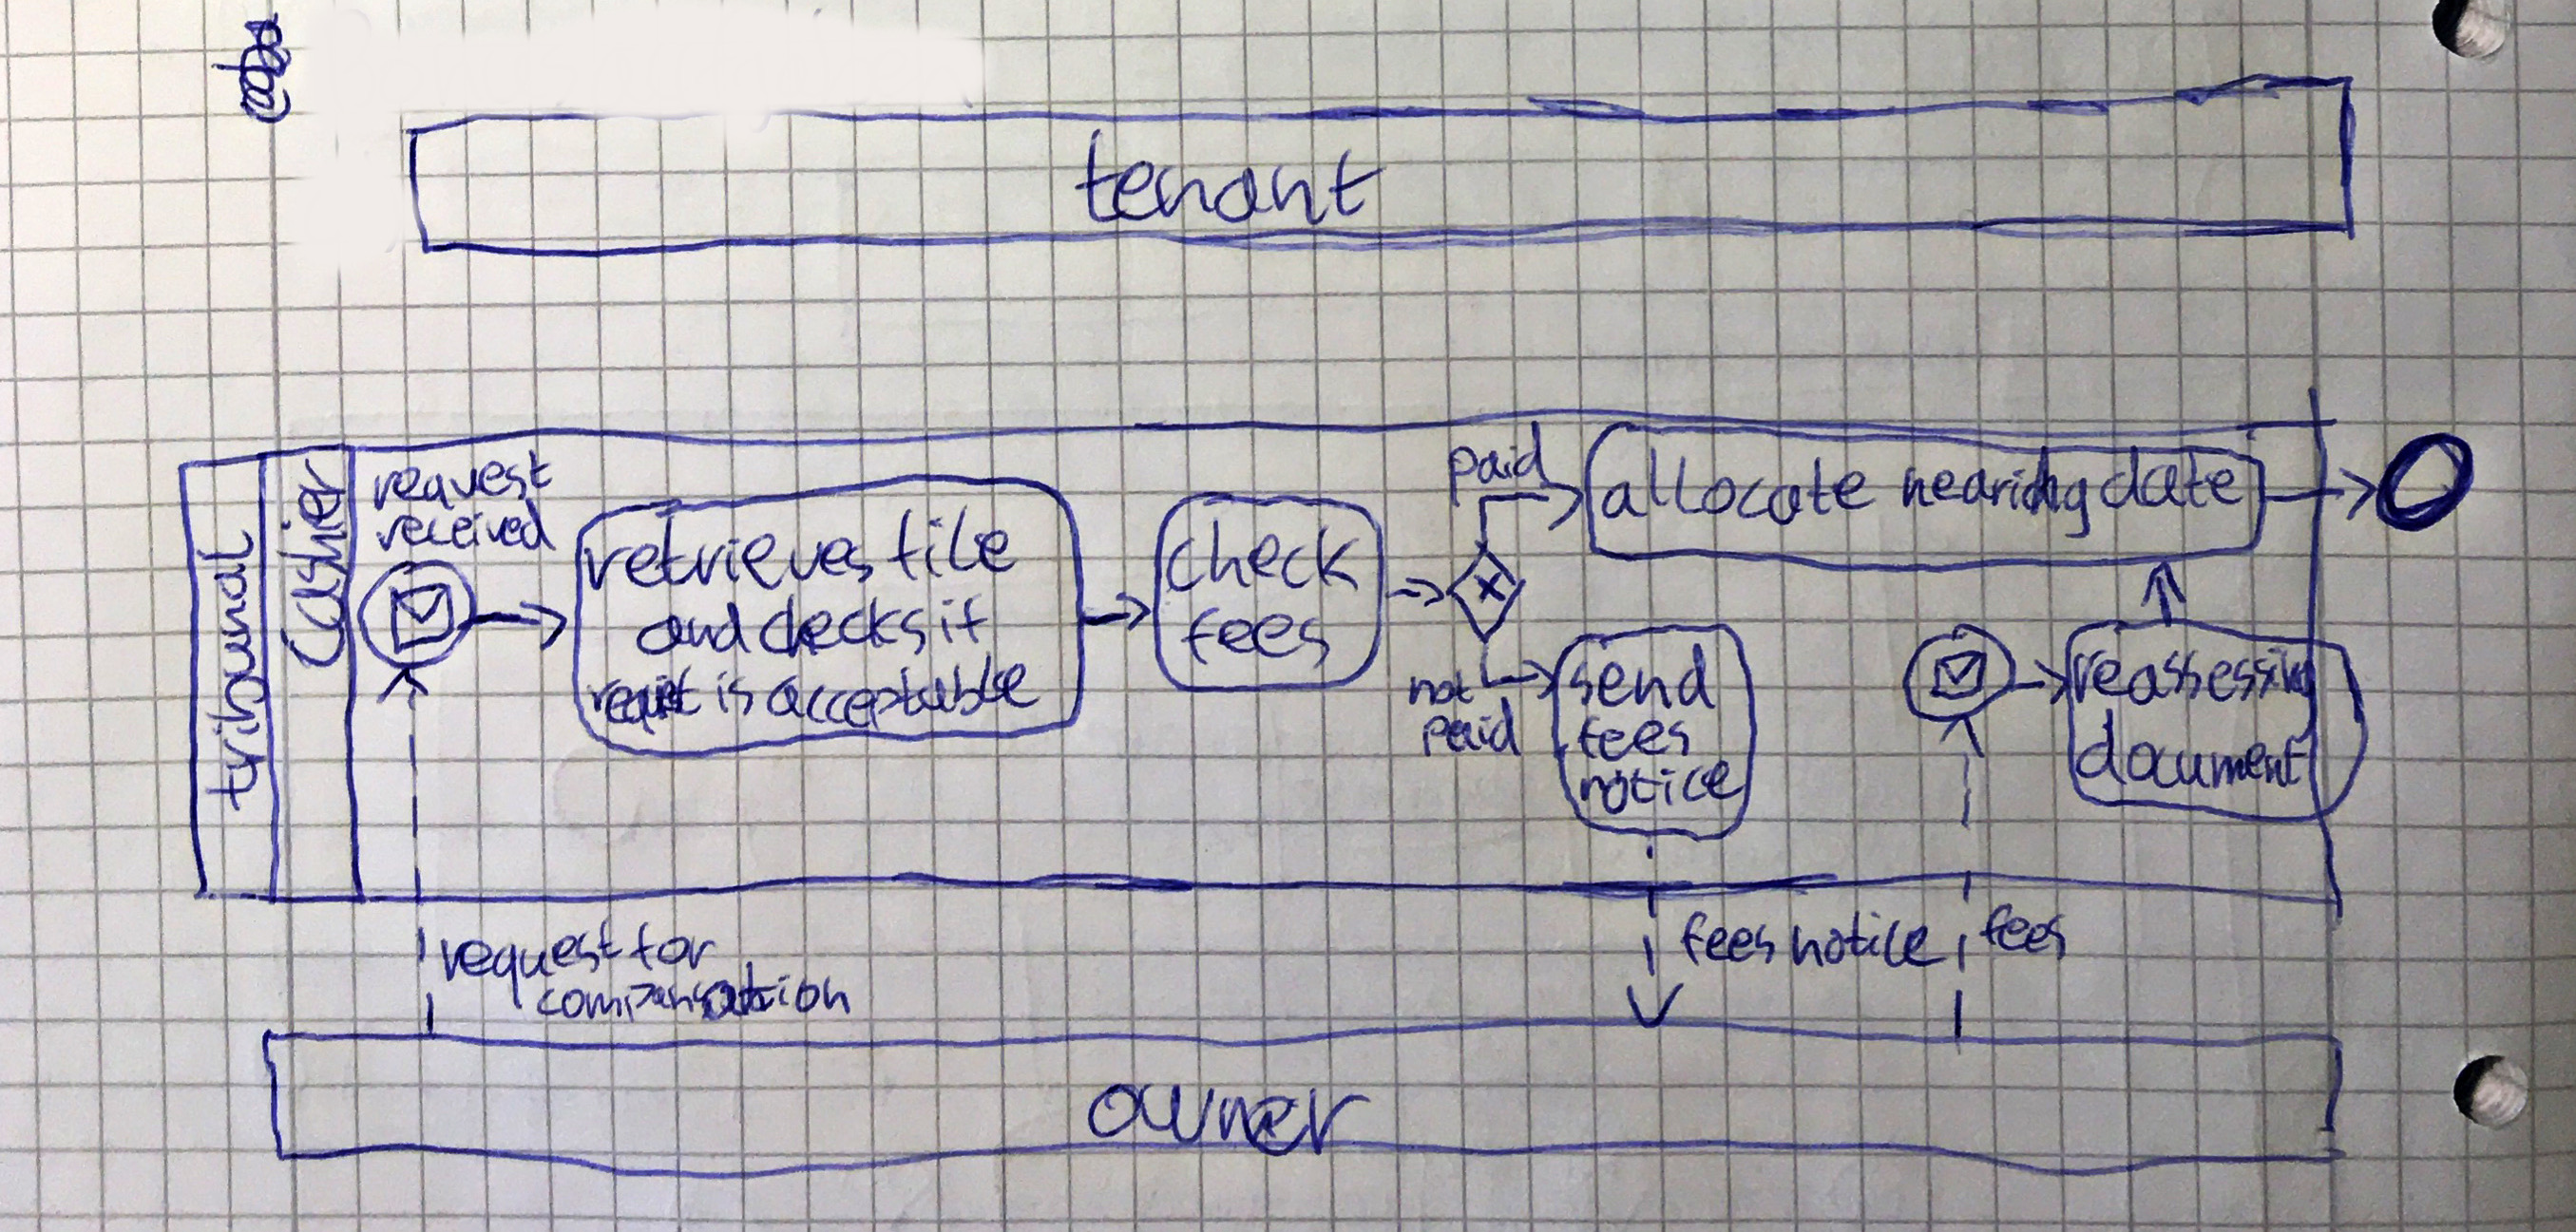acceptable: (759, 647, 1046, 736)
allocate: (1595, 440, 1883, 534)
and: (629, 596, 756, 659)
cashier: (268, 452, 355, 672)
check: (1161, 511, 1367, 600)
checks: (756, 588, 930, 665)
compensation: (531, 956, 858, 1030)
date: (2093, 440, 2251, 513)
document: (2070, 703, 2310, 797)
fees: (1175, 600, 1337, 673), (1574, 708, 1695, 767), (1975, 897, 2075, 968), (1676, 908, 1779, 969)
file: (881, 499, 1024, 586)
for: (624, 918, 721, 977)
hearing: (1894, 440, 2098, 545)
if: (930, 586, 999, 650)
is: (711, 665, 759, 723)
not: (1401, 664, 1479, 711)
notice: (1782, 903, 1955, 974), (1574, 756, 1753, 821)
owner: (1079, 1073, 1380, 1166)
paid: (1441, 414, 1557, 513), (1416, 690, 1526, 765)
reassessed: (2065, 641, 2325, 708)
received: (370, 490, 562, 557)
request: (434, 912, 628, 1017), (366, 442, 560, 517), (580, 660, 708, 741)
retrieves: (577, 506, 881, 598)
send: (1562, 637, 1723, 718)
tenant: (1068, 120, 1396, 233)
tribunal: (192, 524, 273, 811)
